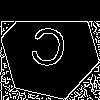C: (25, 25, 70, 78)
